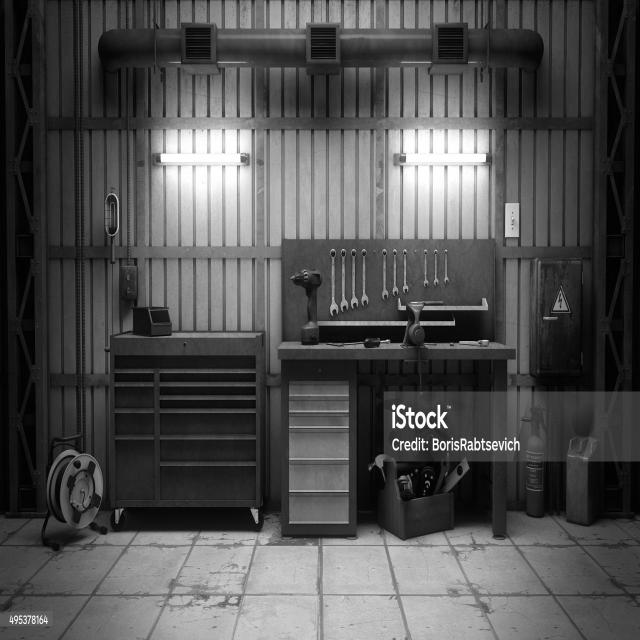corless_drill: (286, 262, 334, 357)
hammer: (363, 438, 393, 497)
level: (449, 449, 478, 507)
vise: (397, 295, 430, 355)
wrench: (327, 230, 465, 318)
